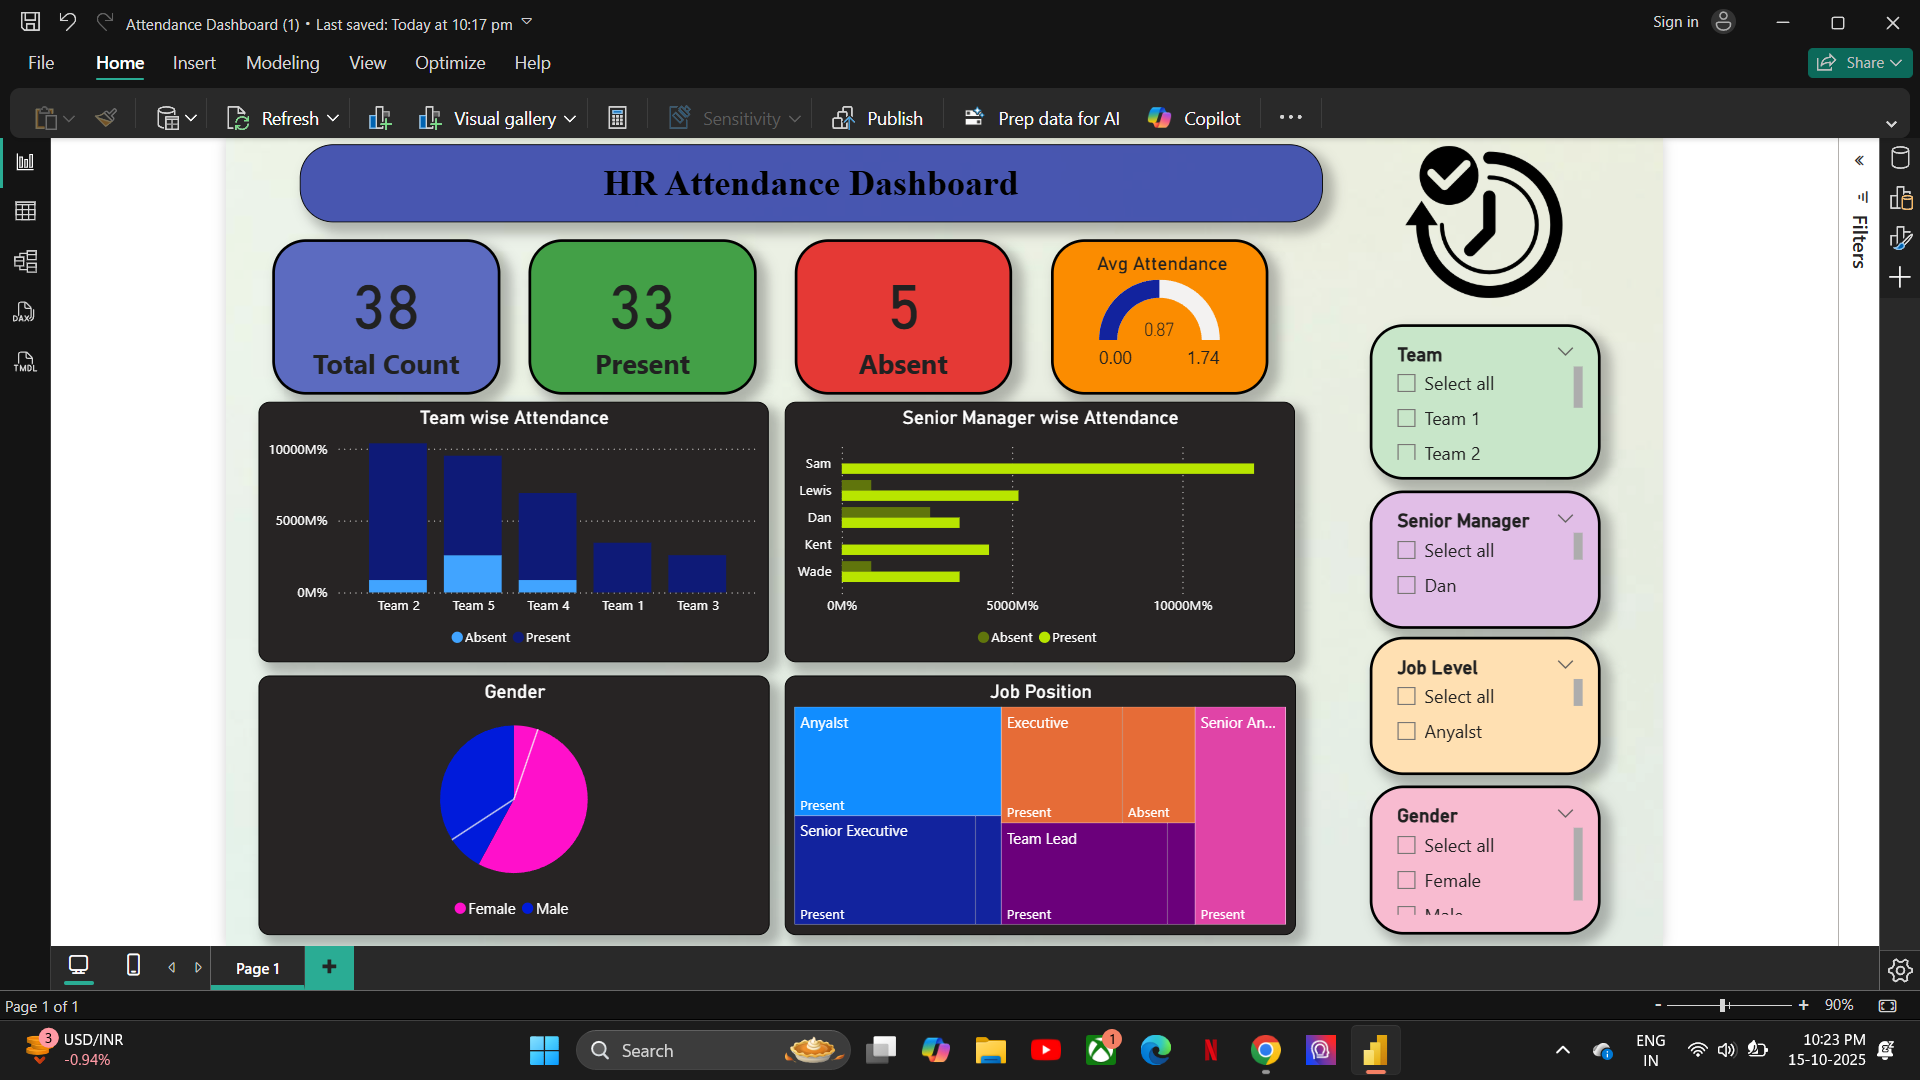

What the dashboard file says about the page in this screenshot:
{"tool":"powerbi","page":{"name":"Page 1","canvas":[1280,720],"ordinal":0},"visuals":[{"type":"card","fields":{"Values":["Data.Please enter your Employee ID:"]},"box":[40.7,90.2,203.4,138.6],"z":0},{"type":"card","fields":{"Values":["Data.Please enter your Employee ID:"]},"box":[269.4,90.2,203.4,138.6],"z":1000},{"type":"card","fields":{"Values":["Data.Please enter your Employee ID:"]},"box":[506.9,90.2,193.5,138.6],"z":2000},{"type":"gauge","fields":{"Y":["Data.Attendance Status"]},"box":[734.6,90.2,193.5,138.6],"z":3000},{"type":"columnChart","title":"Team wise Attendance","fields":{"Category":["Data.Team"],"Y":["Data.Please enter your Employee ID:"],"Series":["Data.Attendance"]},"box":[28.6,235.3,454.2,232],"z":4000},{"type":"clusteredBarChart","title":"Senior Manager wise Attendance","fields":{"Y":["Data.Please enter your Employee ID:"],"Series":["Data.Attendance"],"Category":["Data.Senior Manager"]},"box":[497,235.3,454.2,232],"z":5000},{"type":"pieChart","title":"Gender","fields":{"Y":["Data.Please enter your Employee ID:"],"Series":["Data.Attendance"],"Category":["Data.Gender"]},"box":[28.6,478.4,455.3,230.9],"z":6000},{"type":"treemap","title":"Job Position","fields":{"Values":["Data.Please enter your Employee ID:"],"Details":["Data.Attendance"],"Group":["Data.Job Level"]},"box":[497,478.4,455.3,230.9],"z":7000},{"type":"slicer","fields":{"Values":["Data.Team"]},"box":[1018.3,166,205.6,138.6],"z":8000},{"type":"slicer","fields":{"Values":["Data.Senior Manager"]},"box":[1018.3,313.4,205.6,123.2],"z":9000},{"type":"slicer","fields":{"Values":["Data.Job Level"]},"box":[1018.3,444.3,205.6,123.2],"z":10000},{"type":"slicer","fields":{"Values":["Data.Gender"]},"box":[1018.3,576.2,205.6,133.1],"z":11000},{"type":"image","box":[1018,0,206,150],"z":12000},{"type":"textbox","box":[65.2,5.6,911.2,69.8],"z":13000}]}

Visuals, with their boxes on the page's 1280x720 design canvas (x1, y1, x2, y2). These are canvas units, not pixel positions in the 1920x1080 screenshot, which may show the page scaled, cropped or inside an application window:
card - Data.Please enter your Employee ID:: 41 90 244 229
card - Data.Please enter your Employee ID:: 269 90 473 229
card - Data.Please enter your Employee ID:: 507 90 700 229
gauge - Data.Attendance Status: 735 90 928 229
"Team wise Attendance" columnChart: 29 235 483 467
"Senior Manager wise Attendance" clusteredBarChart: 497 235 951 467
"Gender" pieChart: 29 478 484 709
"Job Position" treemap: 497 478 952 709
slicer - Data.Team: 1018 166 1224 305
slicer - Data.Senior Manager: 1018 313 1224 437
slicer - Data.Job Level: 1018 444 1224 568
slicer - Data.Gender: 1018 576 1224 709
image: 1018 0 1224 150
textbox: 65 6 976 75
